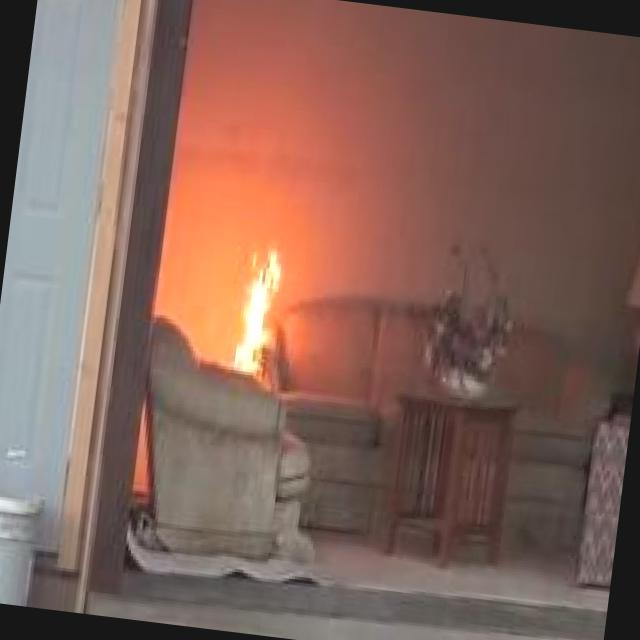fire: (212, 224, 315, 399)
